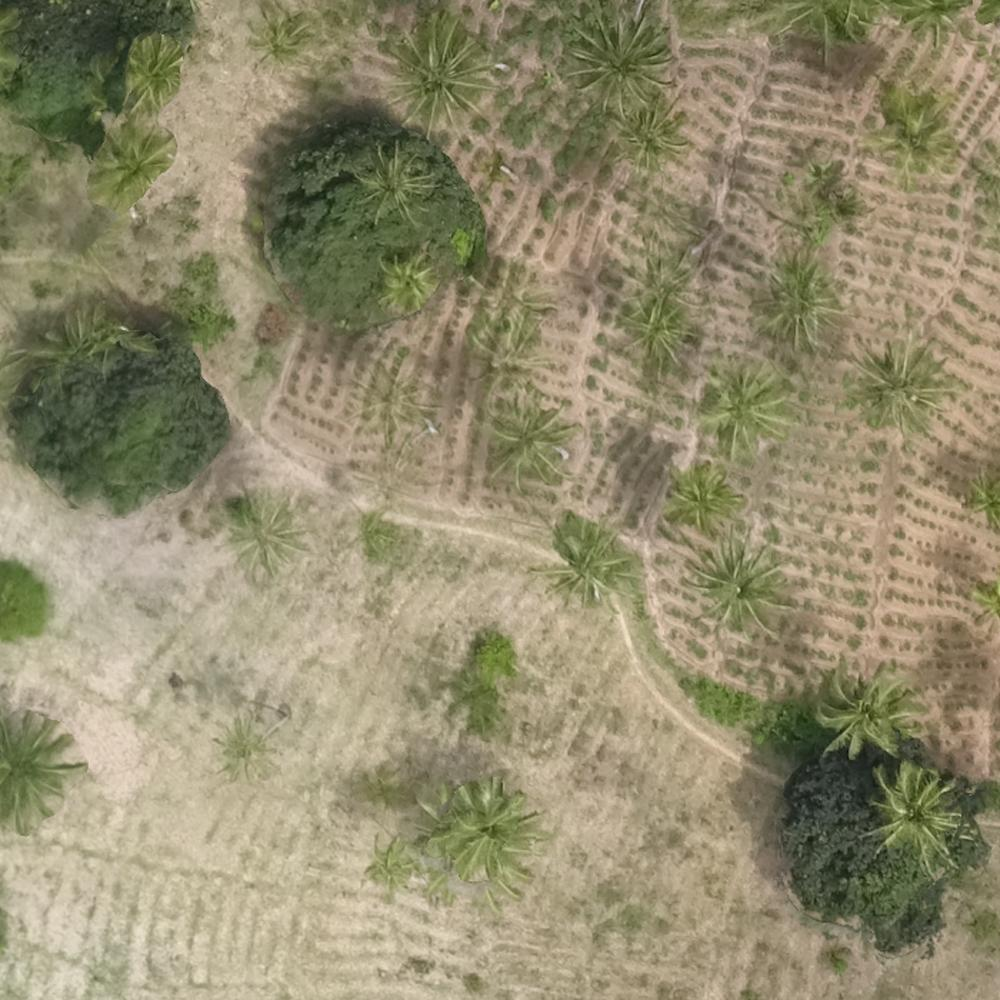Palm: (422, 779, 536, 894), (379, 16, 490, 128), (567, 7, 675, 108), (865, 763, 965, 866), (683, 536, 784, 631), (1, 717, 84, 830), (751, 258, 847, 354), (821, 659, 919, 752), (858, 341, 958, 432), (484, 398, 571, 489), (700, 365, 786, 455), (872, 96, 953, 177), (613, 294, 699, 368), (540, 521, 622, 596), (228, 490, 303, 571), (354, 146, 428, 225), (609, 100, 685, 176), (661, 462, 741, 533), (208, 715, 272, 783), (124, 38, 184, 99), (376, 256, 434, 313)
